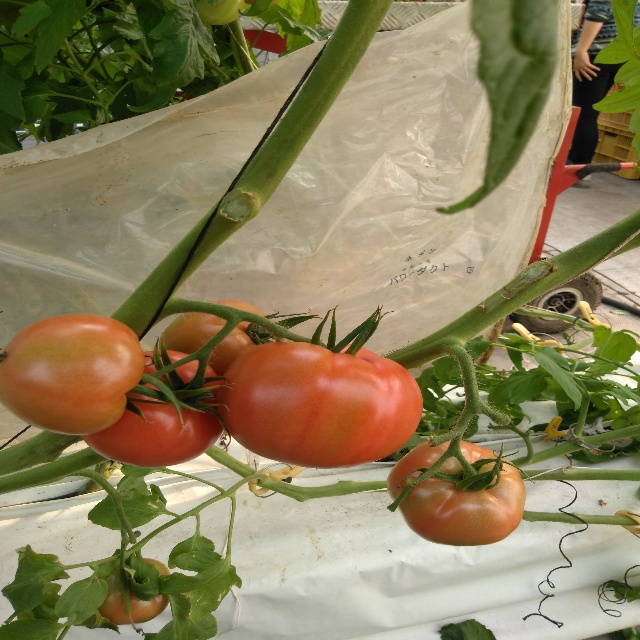b_fully_ripened: (80, 350, 224, 467)
b_green: (198, 0, 246, 25)
b_half_ripened: (217, 342, 423, 469), (0, 314, 145, 436), (387, 437, 526, 546), (159, 299, 287, 378), (87, 556, 171, 626)
